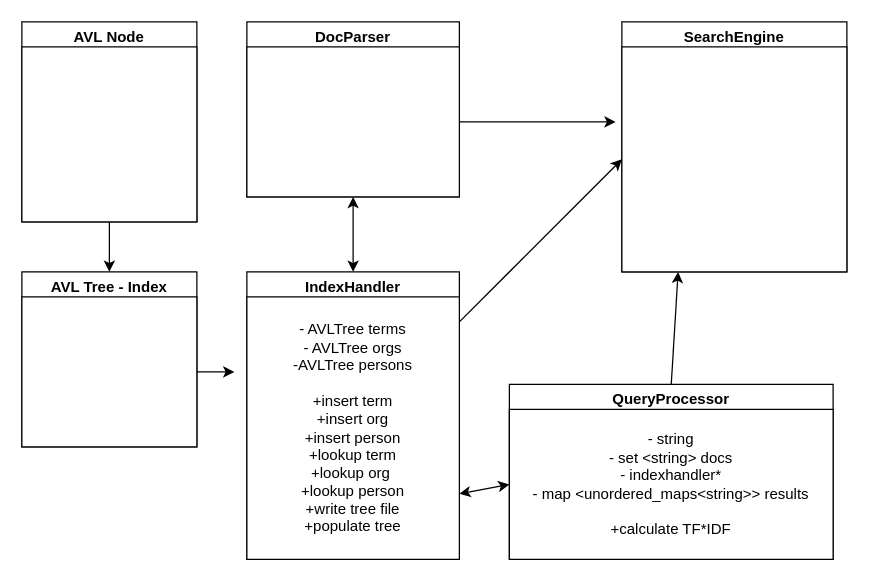
This 869x581 diagram has some shape labels left out. Each missing label, with the centre of its shape:
+ string + map +AVL Node left* +AVLNode right* + int height: [109,134]
- AVLNode* root - int count + functions already provided + getCount: [109,371]
- DocParser - QueryProcessor - IndexHandler +index function +search function: [734,159]
- stopwords - stemmer - IndexHandler* + process_json: [352,121]
